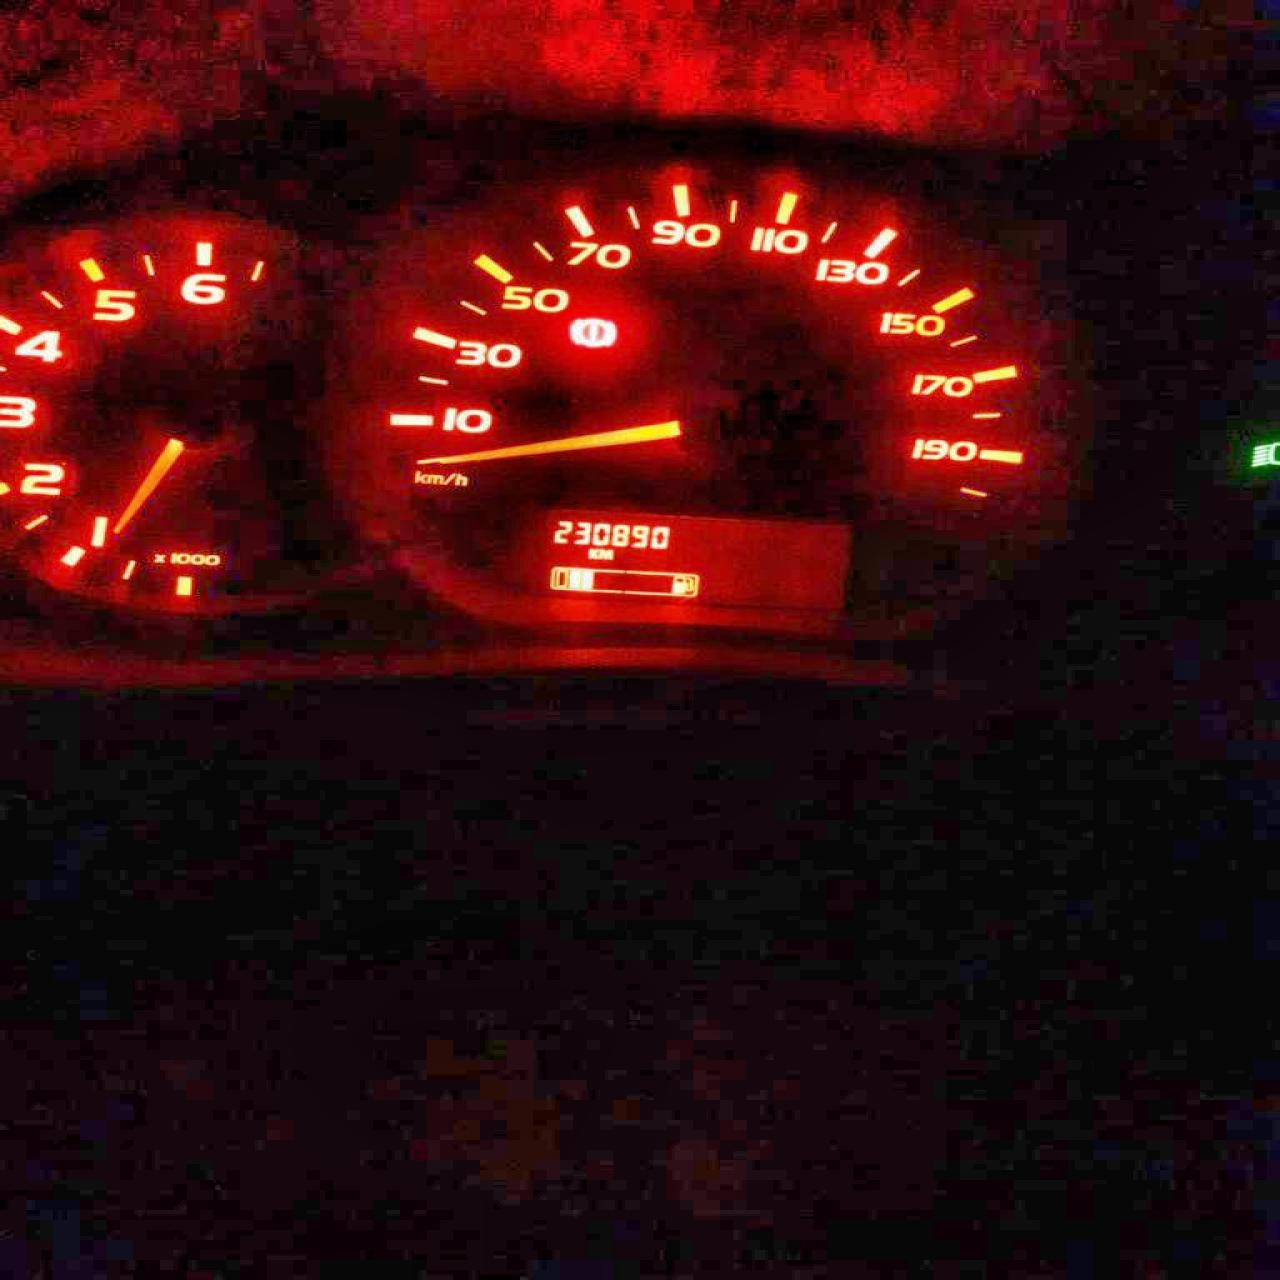0: (649, 524, 668, 549), (592, 520, 611, 545)
2: (551, 519, 572, 545)
3: (573, 519, 590, 545)
8: (612, 523, 631, 546)
9: (629, 523, 648, 547)
X: (597, 546, 613, 560), (586, 546, 597, 560)
odometer: (529, 496, 855, 608)
